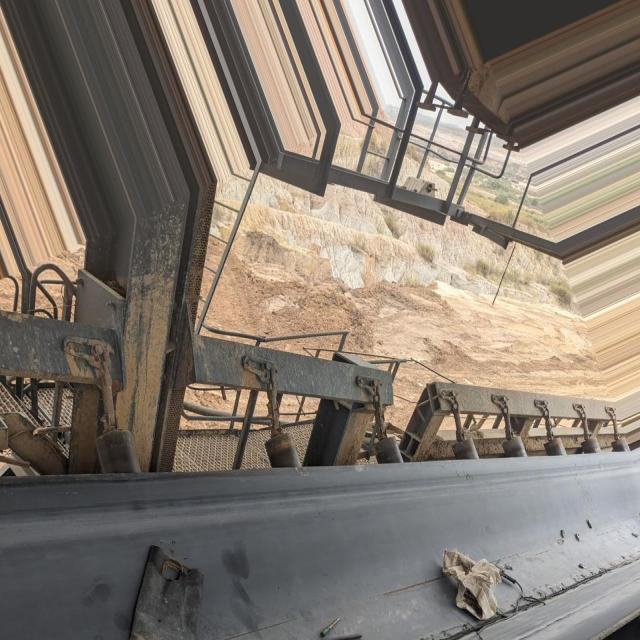Other Objects: (441, 543, 540, 621), (127, 543, 207, 638), (319, 613, 343, 637)
Roller: (94, 433, 145, 476), (267, 434, 304, 466), (374, 438, 403, 464), (453, 438, 481, 459), (265, 429, 293, 448), (501, 437, 528, 456), (577, 436, 604, 455), (545, 437, 568, 459), (612, 437, 630, 454)
Tear: (441, 550, 640, 640)
